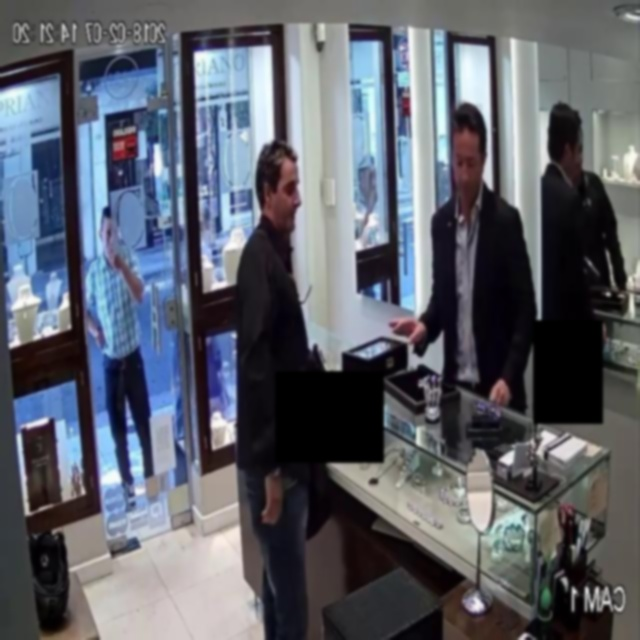gun: (307, 334, 341, 371)
